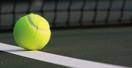tennis ball: (13, 13, 53, 52)
